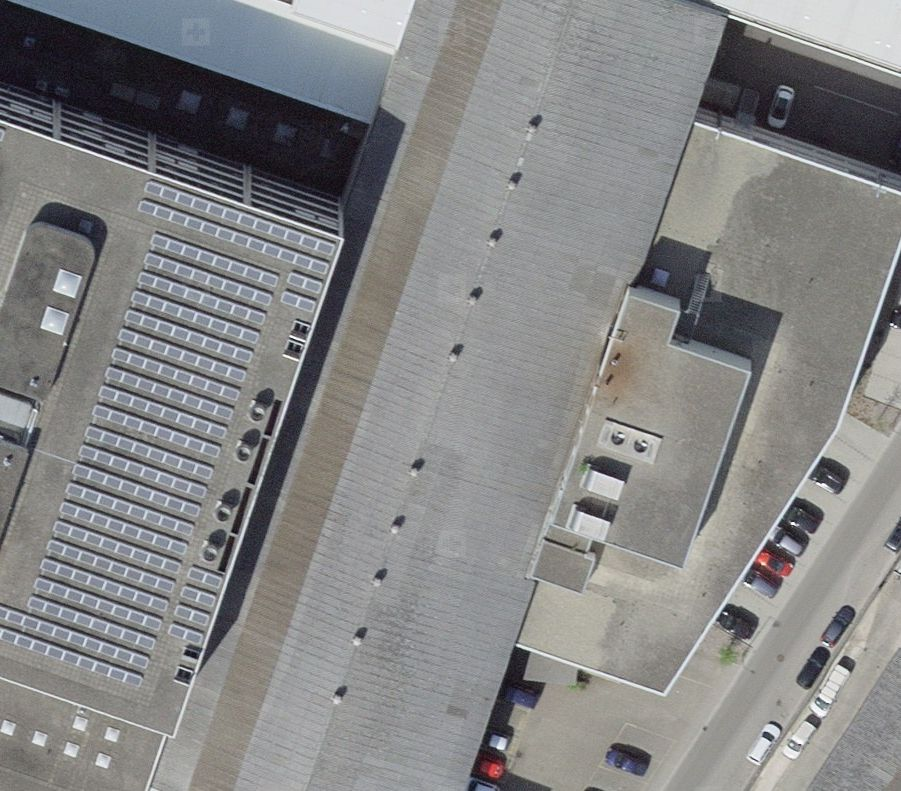solar: (1, 174, 337, 693)
